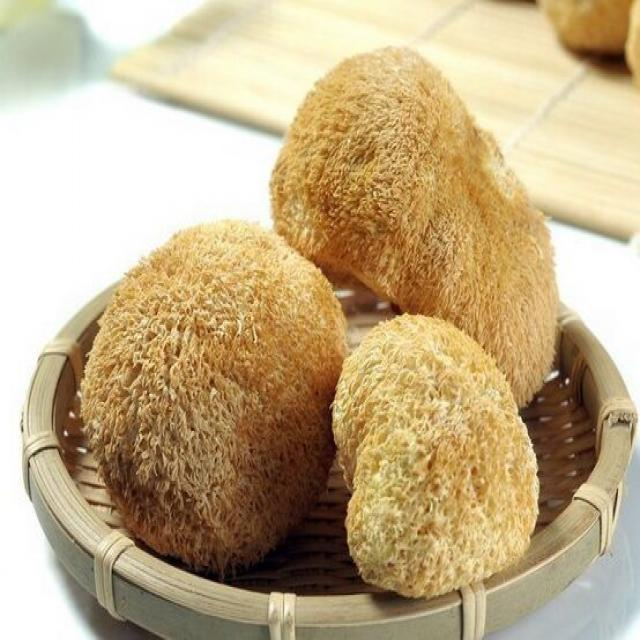Hericium erinaceus: (270, 46, 556, 411), (81, 221, 346, 566), (335, 313, 542, 591)
